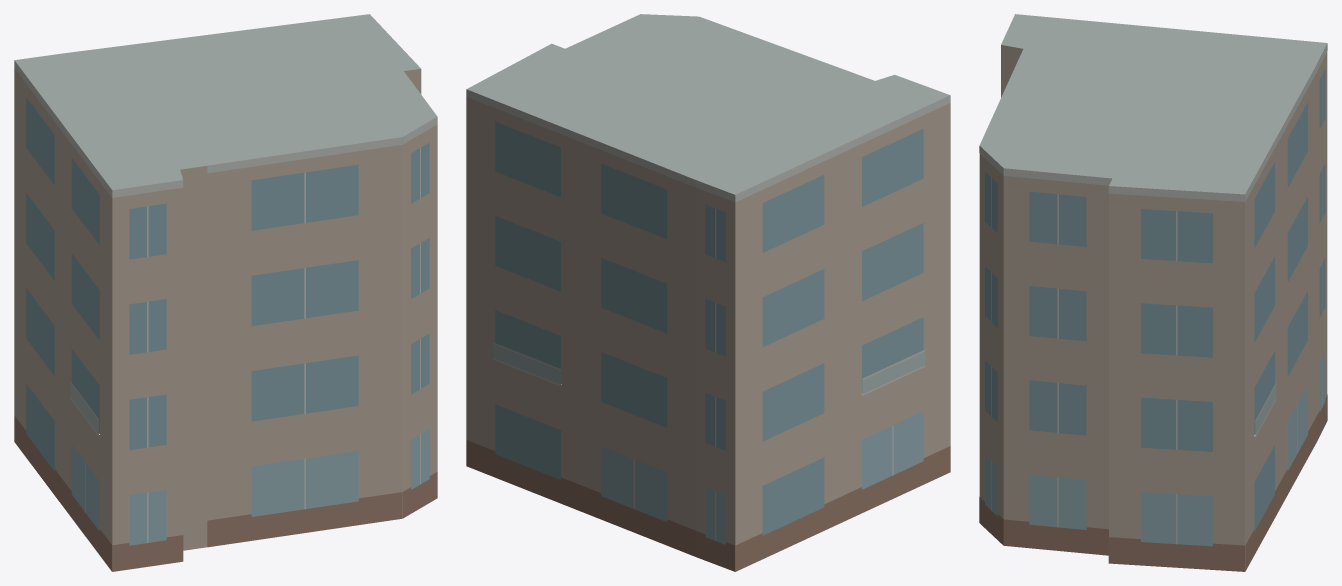
Rendered from survey-upis-32642814.glb.
The picture shows the model from 3 angles, left to right: view 1: azimuth 30°, elevation 25°; view 2: azimuth 150°, elevation 25°; view 3: azimuth 270°, elevation 25°; orthographic projection.
Visible parts, largest first — view 1: survey-upis-32642814.tmp; view 2: survey-upis-32642814.tmp; view 3: survey-upis-32642814.tmp.
Part boxes in pixels (box(x1,y1,x2,y2)): survey-upis-32642814.tmp: box(14, 14, 437, 571); survey-upis-32642814.tmp: box(466, 14, 950, 571); survey-upis-32642814.tmp: box(979, 14, 1327, 571).
Bounding box in the file's own units: 12.52 × 12.2 × 10.21.
